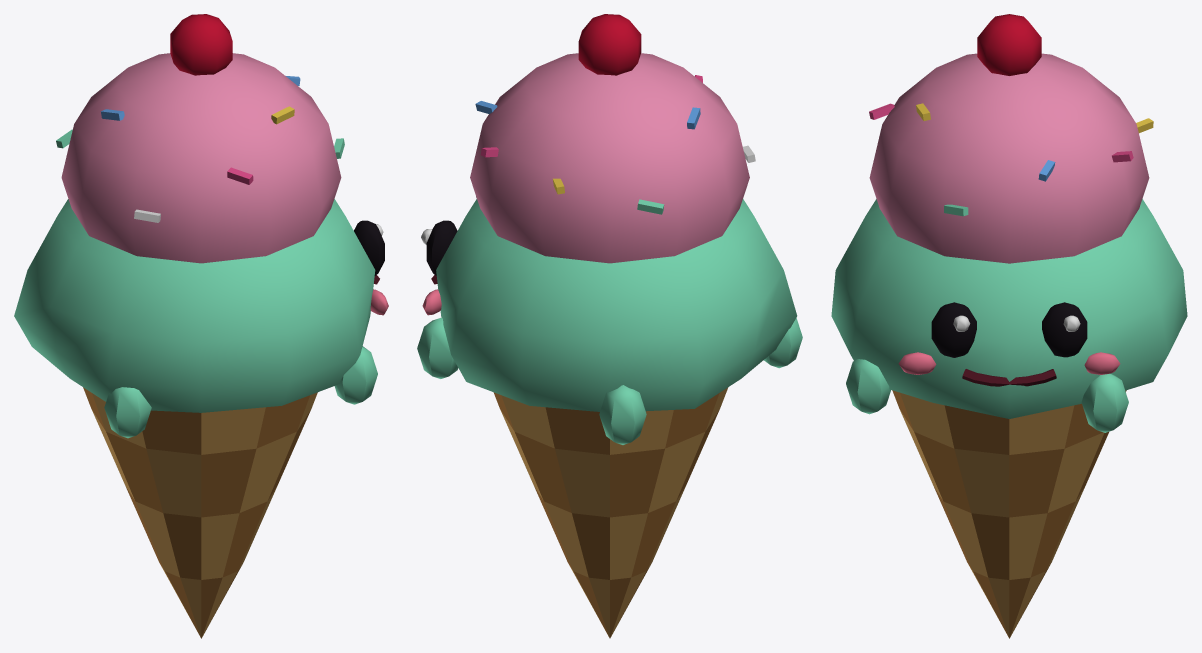
Rendered from ice_cream.glb.
3 views of the same model, side by side, from view 1: azimuth 30°, elevation 25°; view 2: azimuth 150°, elevation 25°; view 3: azimuth 270°, elevation 25° (orthographic).
Parts seen in each view (by area): view 1: ice_cream; view 2: ice_cream; view 3: ice_cream.
Part boxes in pixels (x1=…): ice_cream: x1=14, y1=14, x2=388, y2=638; ice_cream: x1=417, y1=14, x2=802, y2=638; ice_cream: x1=831, y1=14, x2=1187, y2=638.
Size of the model in its own units: 0.4276 by 0.81 by 0.42.
